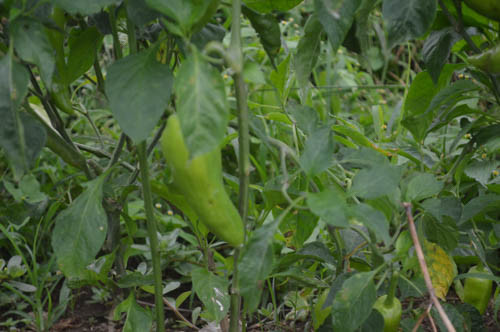ChiliPepper: (160, 115, 246, 250)
